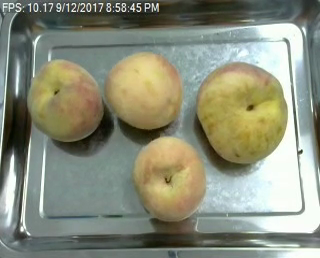Peach: (197, 61, 287, 165), (133, 136, 207, 222), (25, 59, 101, 142), (105, 50, 182, 129)
